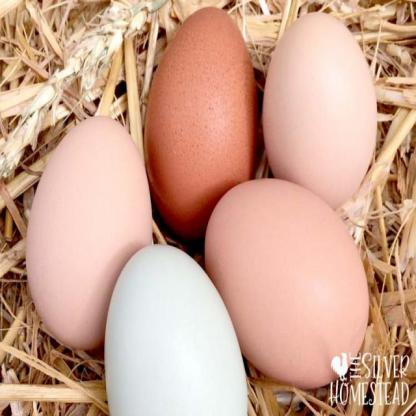egg: (197, 132, 372, 402), (20, 104, 168, 352), (144, 6, 266, 245), (96, 234, 256, 412), (258, 6, 382, 208)
